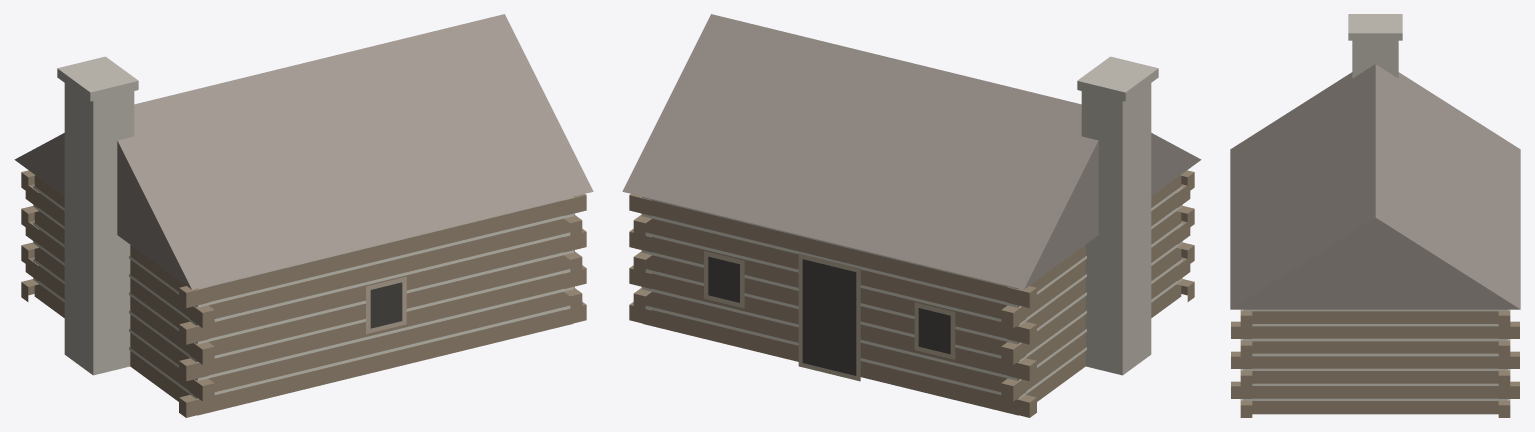
File: chappel_infant_school__log_1833.glb
3 renders of one model, left to right at view 1: azimuth 30°, elevation 25°; view 2: azimuth 150°, elevation 25°; view 3: azimuth 270°, elevation 25°, orthographic. The views are drawn at different scales.
Parts seen in each view (by area): view 1: chappel_infant_school__log_1833; view 2: chappel_infant_school__log_1833; view 3: chappel_infant_school__log_1833.
Boxes of the visible parts, x1=… form: chappel_infant_school__log_1833: x1=14, y1=14, x2=593, y2=417; chappel_infant_school__log_1833: x1=622, y1=14, x2=1201, y2=417; chappel_infant_school__log_1833: x1=1230, y1=14, x2=1520, y2=417.
Bounding box in the file's own units: 8.39 × 5.38 × 5.99.
